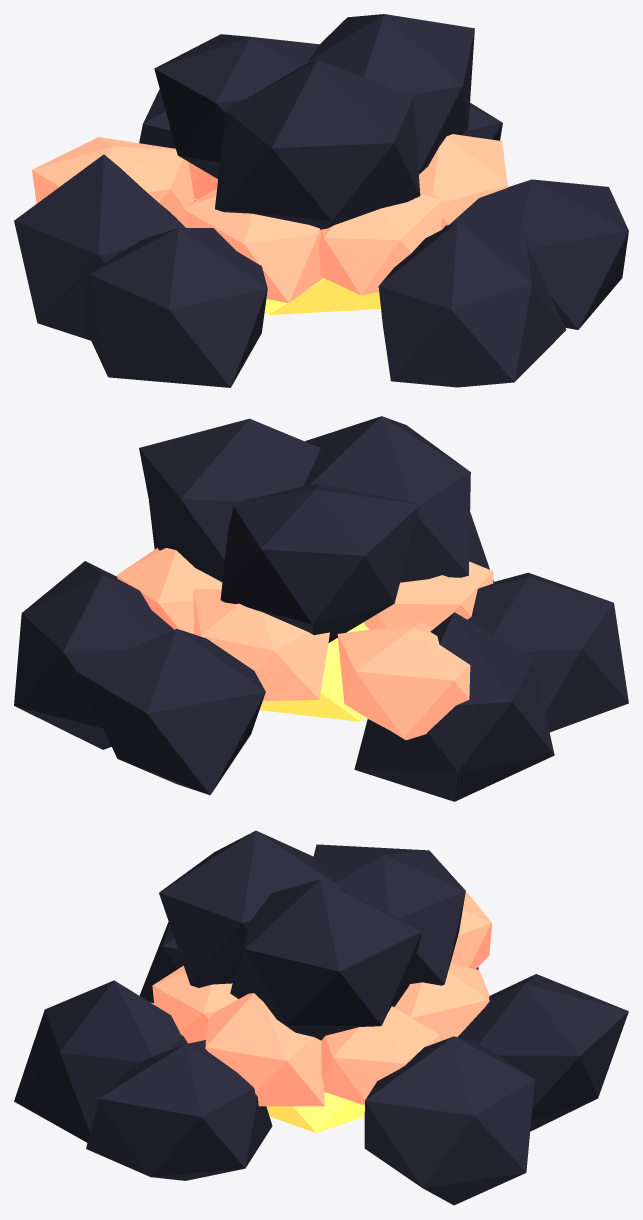
File: cresset_coals.glb
3 views of the same model, one above another, from view 1: azimuth 30°, elevation 25°; view 2: azimuth 150°, elevation 25°; view 3: azimuth 270°, elevation 25° (orthographic). The views are drawn at different scales.
Parts seen in each view (by area): view 1: ink_l5, coal_l10_glow, ember_glow; view 2: ink_l5, coal_l10_glow, ember_glow; view 3: ink_l5, coal_l10_glow, ember_glow.
Part boxes in pixels (x1,y1,x2,y2): ink_l5: [14, 14, 628, 387]; coal_l10_glow: [32, 134, 507, 302]; ember_glow: [264, 278, 380, 314]; ink_l5: [14, 416, 628, 801]; coal_l10_glow: [117, 548, 493, 740]; ember_glow: [259, 622, 369, 721]; ink_l5: [14, 830, 628, 1205]; coal_l10_glow: [152, 885, 491, 1106]; ember_glow: [266, 1092, 364, 1132].
Size of the model in its own units: 0.445 by 0.2622 by 0.5007.
